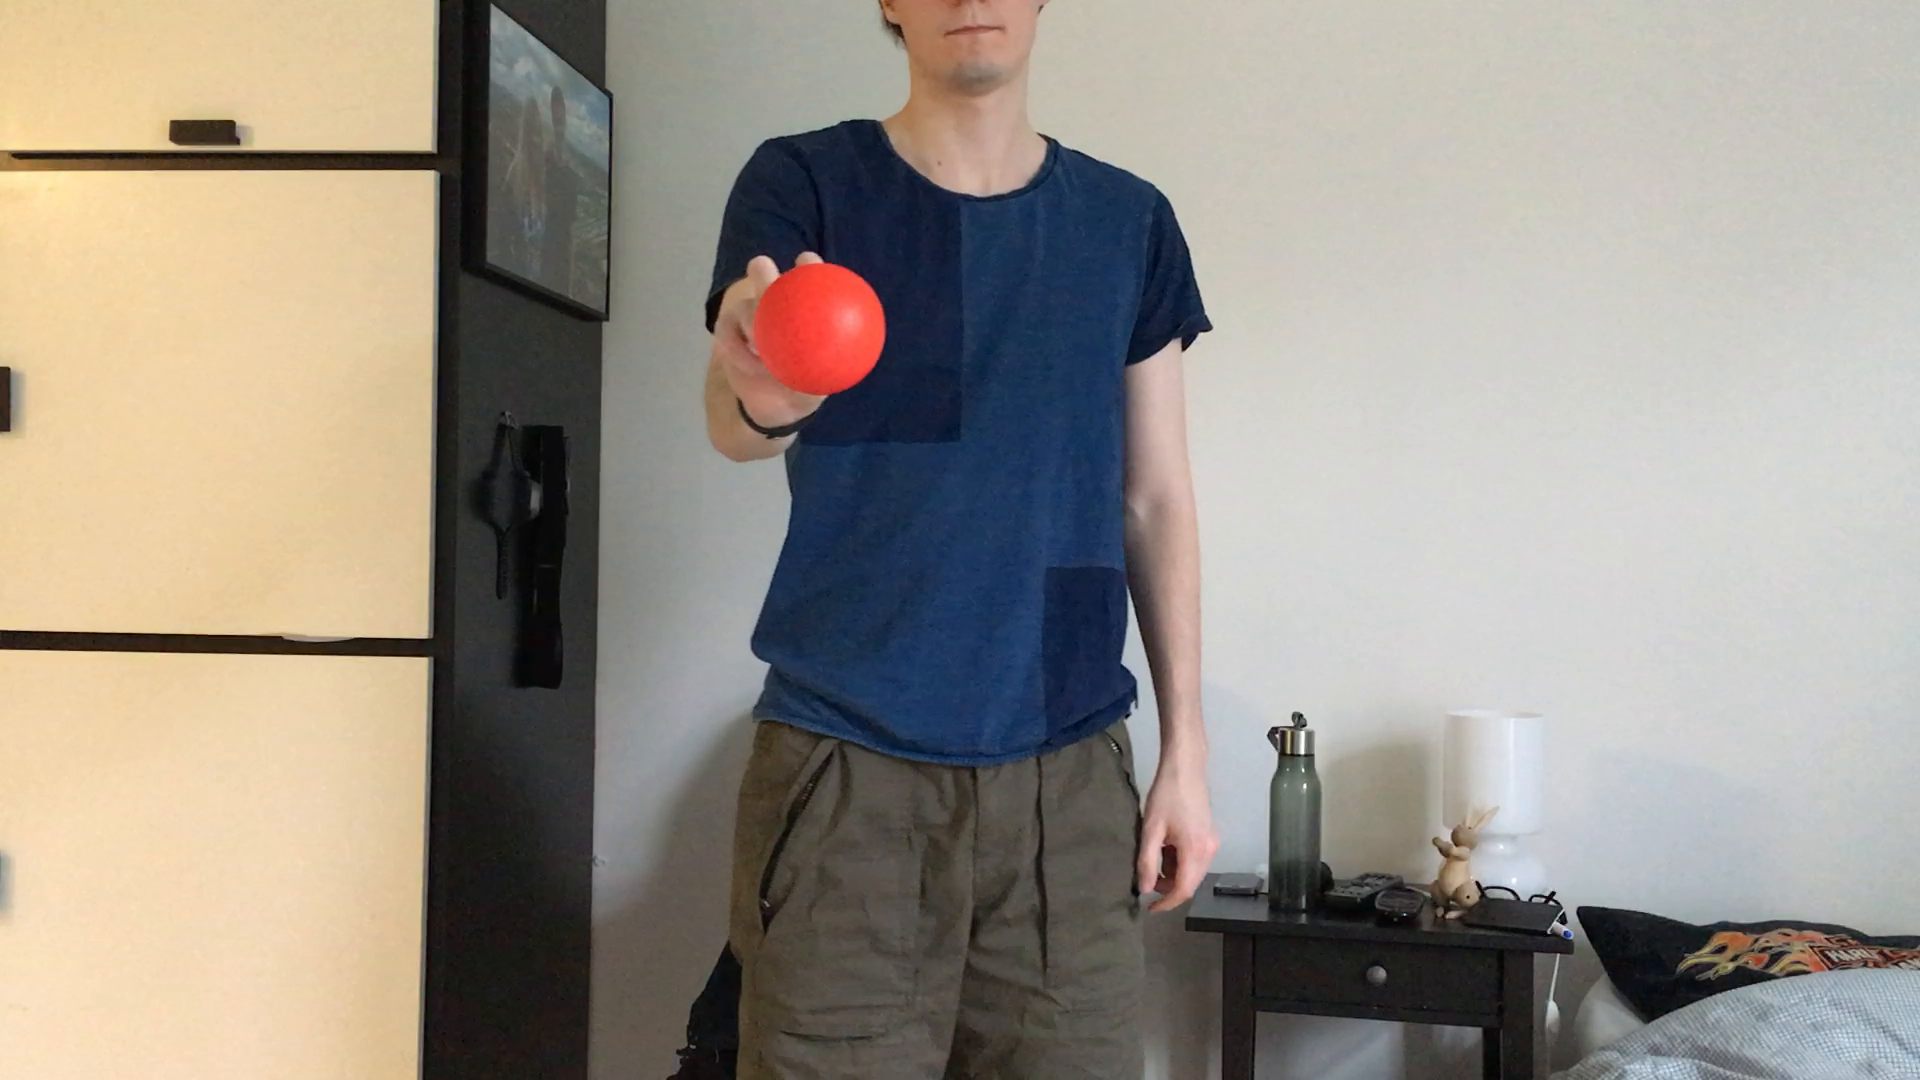Ball: (758, 262, 881, 396)
